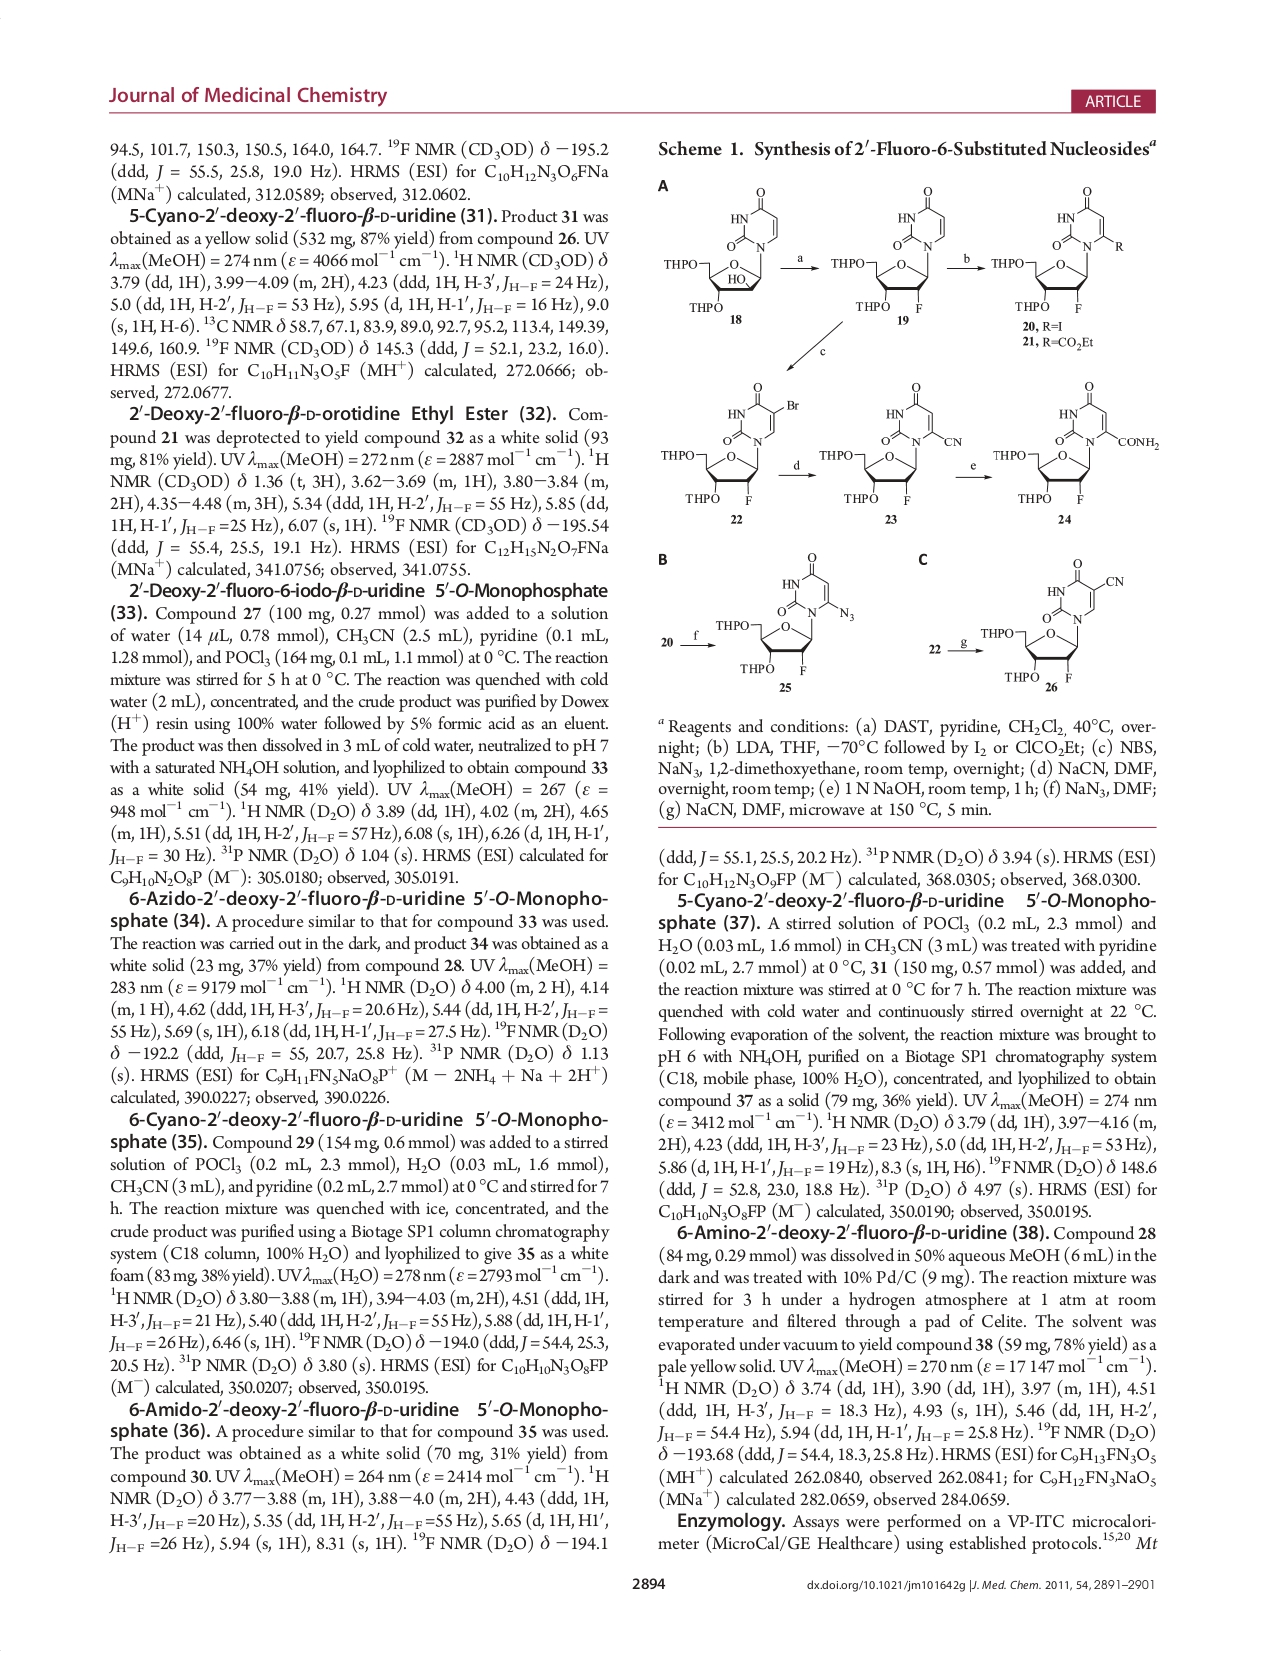exist_molecular: (992, 378, 1160, 509), (979, 556, 1124, 685), (817, 379, 964, 505), (989, 184, 1125, 315), (658, 380, 801, 505), (714, 551, 855, 676), (828, 184, 948, 314), (660, 186, 781, 314)
